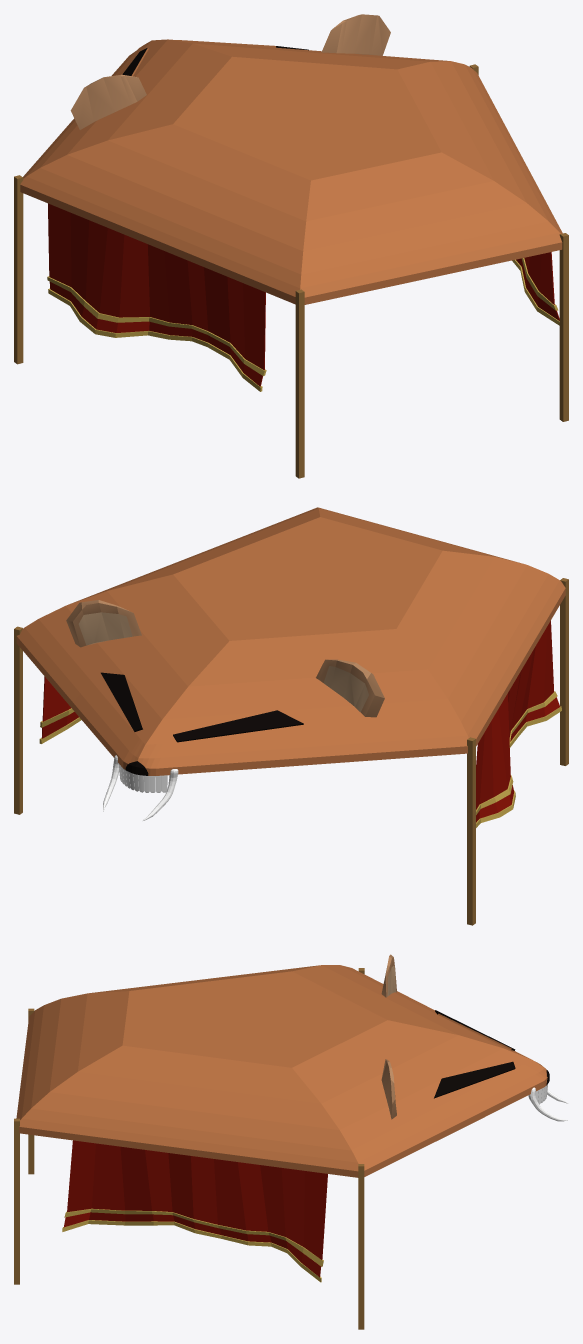
File: lv3huntCenter.glb
3 views of the same model, one above another, from view 1: azimuth 30°, elevation 25°; view 2: azimuth 150°, elevation 25°; view 3: azimuth 270°, elevation 25° (orthographic). The views are drawn at different scales.
Visible parts, largest first — view 1: Plane.001, Plane, Cube.001, Plane.002; view 2: Plane.001, Plane, Cube.001, Plane.002, Cylinder; view 3: Plane.001, Plane, Cube.001, Plane.002, Cylinder.
Part boxes in pixels (x1,y1,x2,y2): Plane.001: (20, 39, 562, 304); Plane: (47, 203, 559, 391); Cube.001: (14, 64, 568, 478); Plane.002: (70, 14, 390, 129); Plane.001: (16, 507, 565, 775); Plane: (39, 620, 561, 827); Cube.001: (14, 578, 568, 925); Plane.002: (66, 600, 384, 717); Cylinder: (103, 755, 178, 820); Plane.001: (16, 965, 549, 1177); Plane: (62, 1140, 327, 1282); Cube.001: (14, 968, 364, 1329); Plane.002: (381, 954, 396, 1119); Cylinder: (528, 1084, 568, 1121).
Size of the model in its own units: 6.55 by 3.38 by 7.75.
